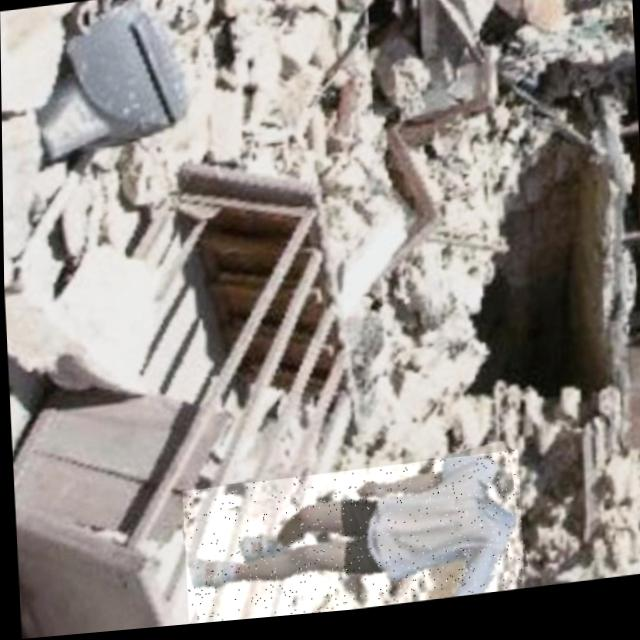Person in Rubble: (179, 458, 521, 628)
